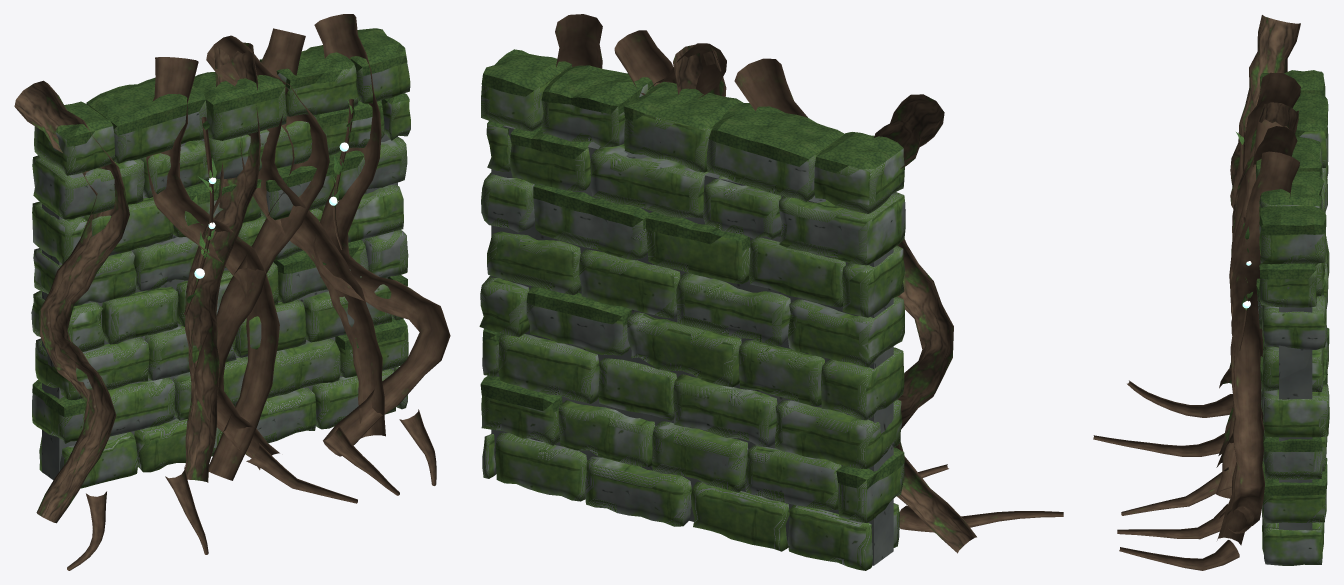
Rendered from root_choked_wall.glb.
3 renders of one model, left to right at view 1: azimuth 30°, elevation 25°; view 2: azimuth 150°, elevation 25°; view 3: azimuth 270°, elevation 25°, orthographic. The views are drawn at different scales.
Parts seen in each view (by area): view 1: root_choked_wall__stone_wall_mossy, root_choked_wall__root, root_choked_wall__bark, root_choked_wall__moss, root_choked_wall__stone_dark, root_choked_wall__leaf; view 2: root_choked_wall__stone_wall_mossy, root_choked_wall__moss, root_choked_wall__bark, root_choked_wall__root, root_choked_wall__stone_dark; view 3: root_choked_wall__root, root_choked_wall__stone_wall_mossy, root_choked_wall__moss, root_choked_wall__bark, root_choked_wall__stone_dark.
Part boxes in pixels (left/top/right/bottom): root_choked_wall__stone_wall_mossy: left=31, top=58, right=410, bottom=488; root_choked_wall__root: left=67, top=14, right=450, bottom=570; root_choked_wall__bark: left=14, top=42, right=260, bottom=523; root_choked_wall__moss: left=32, top=28, right=409, bottom=416; root_choked_wall__stone_dark: left=42, top=100, right=397, bottom=480; root_choked_wall__leaf: left=186, top=100, right=355, bottom=303; root_choked_wall__stone_wall_mossy: left=479, top=66, right=905, bottom=570; root_choked_wall__moss: left=480, top=49, right=904, bottom=489; root_choked_wall__bark: left=673, top=44, right=976, bottom=553; root_choked_wall__root: left=555, top=14, right=1063, bottom=532; root_choked_wall__stone_dark: left=491, top=125, right=893, bottom=565; root_choked_wall__root: left=1093, top=72, right=1300, bottom=570; root_choked_wall__stone_wall_mossy: left=1256, top=71, right=1329, bottom=565; root_choked_wall__moss: left=1255, top=70, right=1329, bottom=495; root_choked_wall__bark: left=1218, top=15, right=1300, bottom=455; root_choked_wall__stone_dark: left=1279, top=286, right=1312, bottom=530.
Bounding box in the file's own units: 5.12 × 4.62 × 2.5.
Materials: 7 (6 with a texture image).
